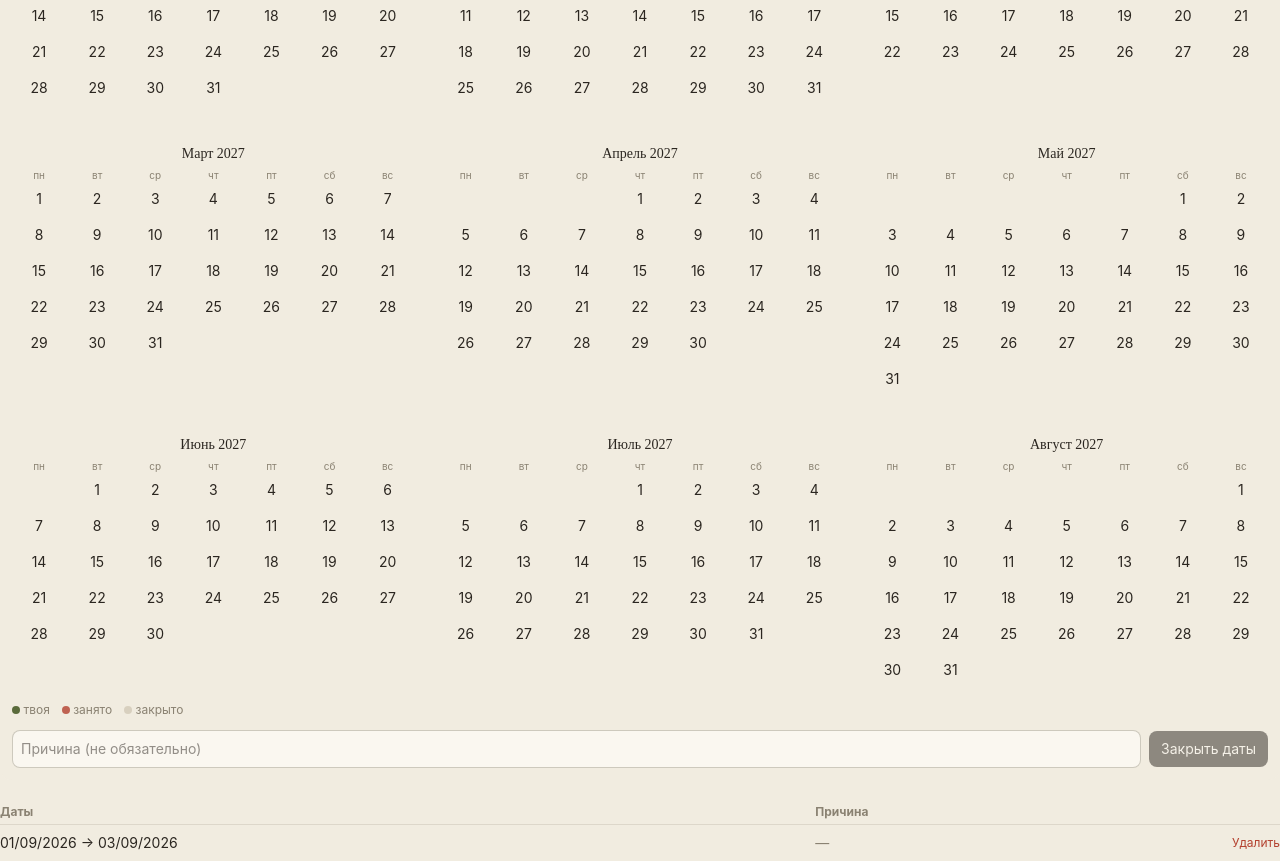
Test case: удаление после подтверждения убирает период
(page scrolled)
Click the button "Удалить". click: [1256, 843]
box: [1232,835,1279,851]
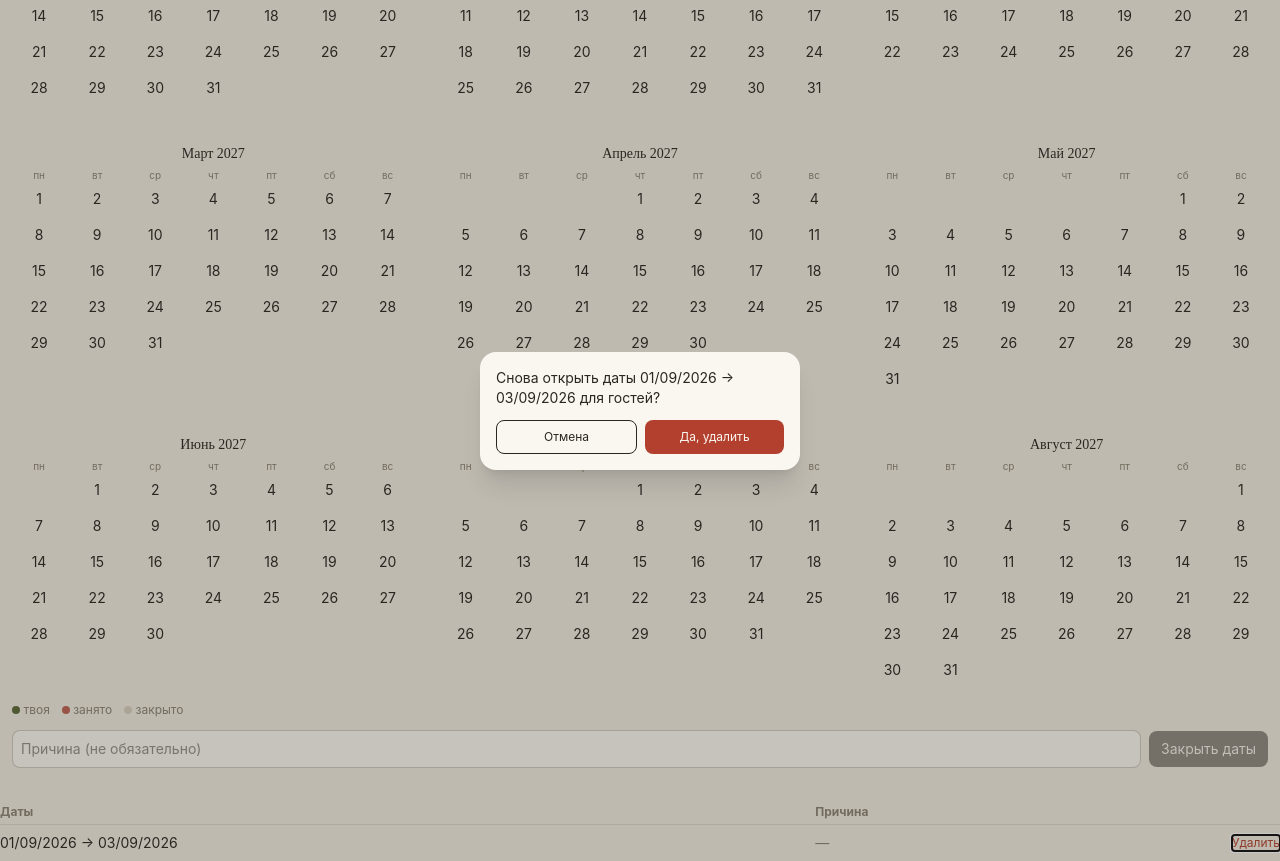
Click the button "Да, удалить". click: [714, 437]
box: [645,420,784,454]
(page scrolled)
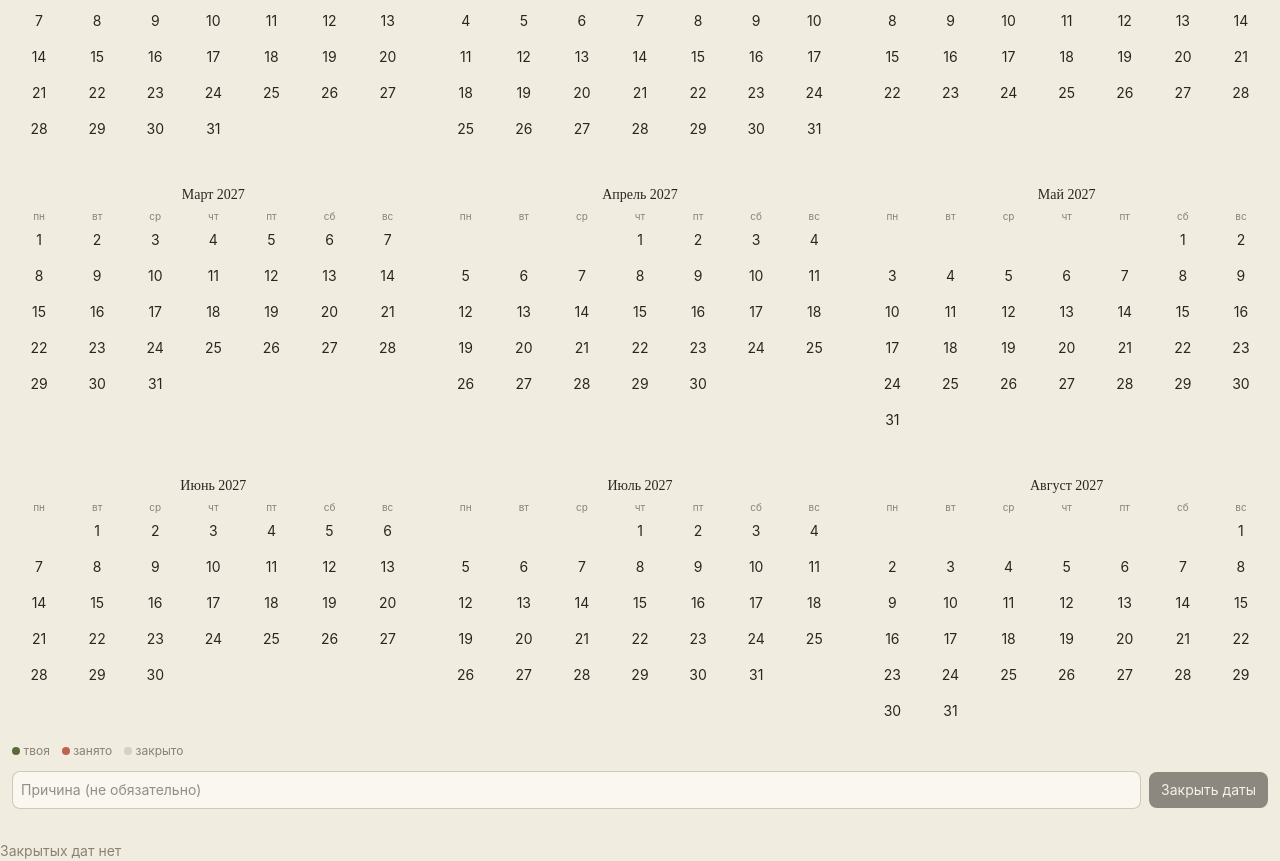
Result: the text "Закрытых дат нет" is shown at [0,842,121,859]
